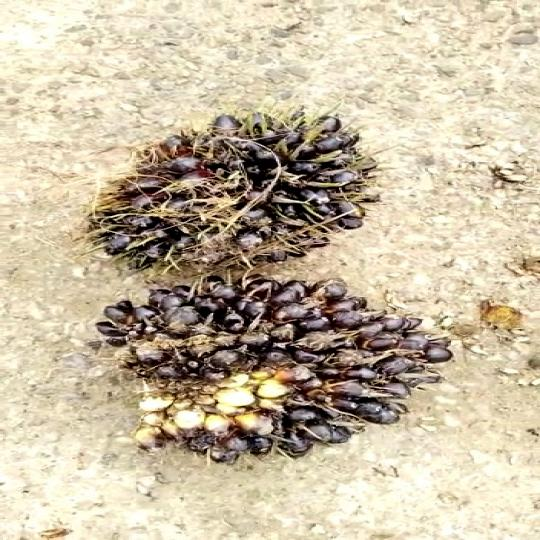mentah: (70, 274, 480, 466), (66, 96, 389, 282)
